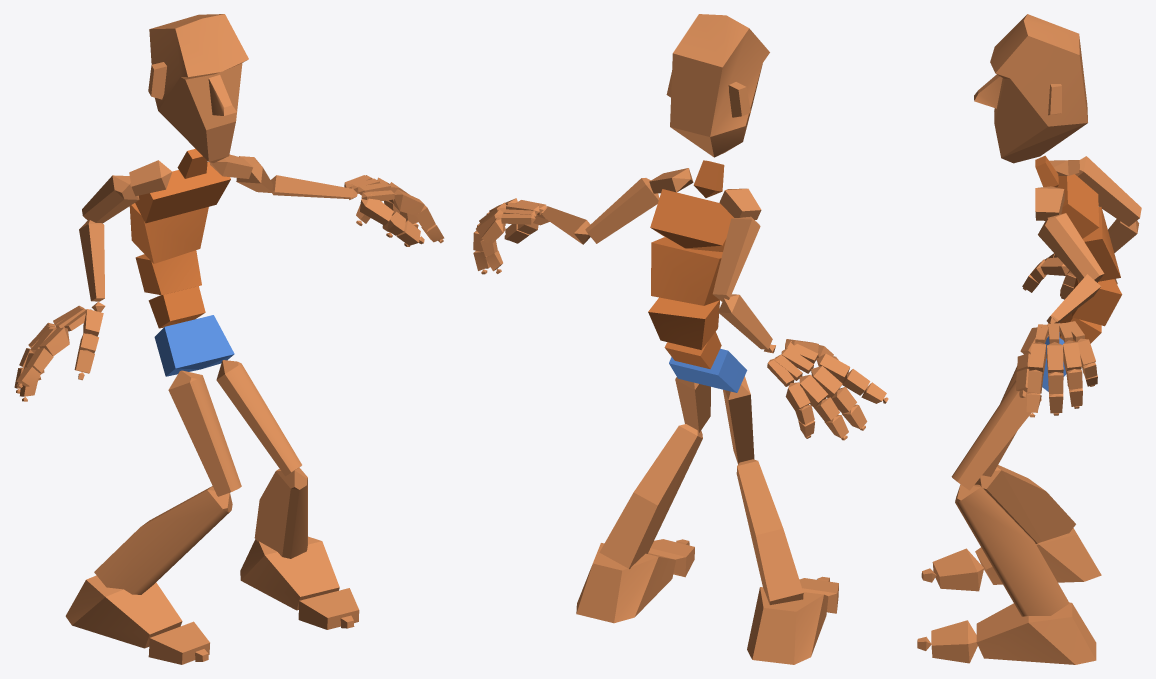
Rendered from prueba133.obj.
The picture shows the model from 3 angles, left to right: view 1: azimuth 30°, elevation 25°; view 2: azimuth 150°, elevation 25°; view 3: azimuth 270°, elevation 25°; orthographic projection. The views are drawn at different scales.
Visible parts, largest first — view 1: BOPED_Head, BOPED_R_leg, BOPED_R_foot, BOPED_R_foot01, BOPED_R_legup, BOPED_L_leg, Bone01, BOPED_L_legup, Bone04, Bone05, Bone03, BOPED_R_foot_toe01 (+9 smaller); view 2: BOPED_Head, BOPED_L_leg, BOPED_R_leg, BOPED_R_foot01, BOPED_R_foot, Bone04, Bone05, Bone03, BOPED_R_arm_upper, BOPED_L_arm_upper, Bone01, BOPED_R_legup (+9 smaller); view 3: BOPED_Head, BOPED_L_leg, BOPED_R_foot01, BOPED_R_leg, BOPED_L_legup, BOPED_R_foot, BOPED_L_arm_upper, BOPED_R_arm_upper, Bone05, BOPED_R_foot_toe01, BOPED_R_foot_toe04, Bone03 (+15 smaller).
Part boxes in pixels (x1,y1,x2,y2): BOPED_Head: [148, 14, 248, 162]; BOPED_R_leg: [94, 486, 232, 594]; BOPED_R_foot: [65, 575, 182, 648]; BOPED_R_foot01: [240, 536, 339, 610]; BOPED_R_legup: [168, 370, 241, 496]; BOPED_L_leg: [254, 467, 307, 558]; Bone01: [154, 315, 234, 376]; BOPED_L_legup: [216, 360, 301, 476]; Bone04: [129, 203, 208, 263]; Bone05: [135, 162, 230, 223]; Bone03: [135, 250, 201, 295]; BOPED_R_foot_toe01: [148, 621, 209, 664]; BOPED_Head: [666, 14, 769, 157]; BOPED_L_leg: [599, 424, 702, 569]; BOPED_R_leg: [736, 459, 803, 604]; BOPED_R_foot01: [576, 543, 675, 623]; BOPED_R_foot: [747, 587, 828, 664]; Bone04: [651, 237, 722, 305]; Bone05: [650, 189, 733, 251]; Bone03: [648, 297, 719, 349]; BOPED_R_arm_upper: [712, 216, 760, 301]; BOPED_L_arm_upper: [585, 178, 659, 243]; Bone01: [669, 348, 747, 392]; BOPED_R_legup: [723, 376, 754, 464]; BOPED_Head: [974, 14, 1087, 163]; BOPED_L_leg: [955, 484, 1069, 616]; BOPED_R_foot01: [976, 602, 1096, 664]; BOPED_R_leg: [975, 465, 1075, 543]; BOPED_L_legup: [951, 380, 1041, 490]; BOPED_R_foot: [975, 528, 1101, 584]; BOPED_L_arm_upper: [1038, 213, 1104, 282]; BOPED_R_arm_upper: [1075, 156, 1141, 226]; Bone05: [1057, 174, 1099, 238]; BOPED_R_foot_toe01: [932, 548, 983, 591]; BOPED_R_foot_toe04: [931, 620, 977, 663]; Bone03: [1072, 278, 1122, 326].
Size of the model in its own units: 130 by 178 by 61.88.
